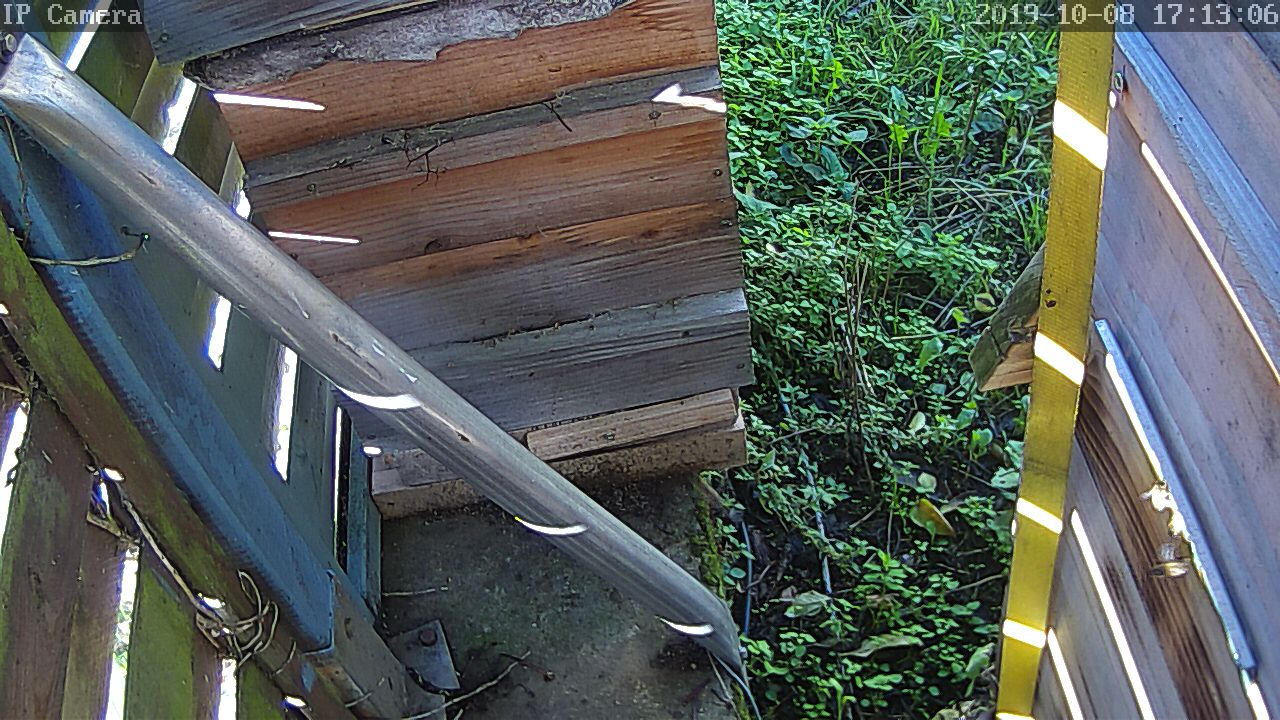bee: (1156, 549, 1198, 584)
